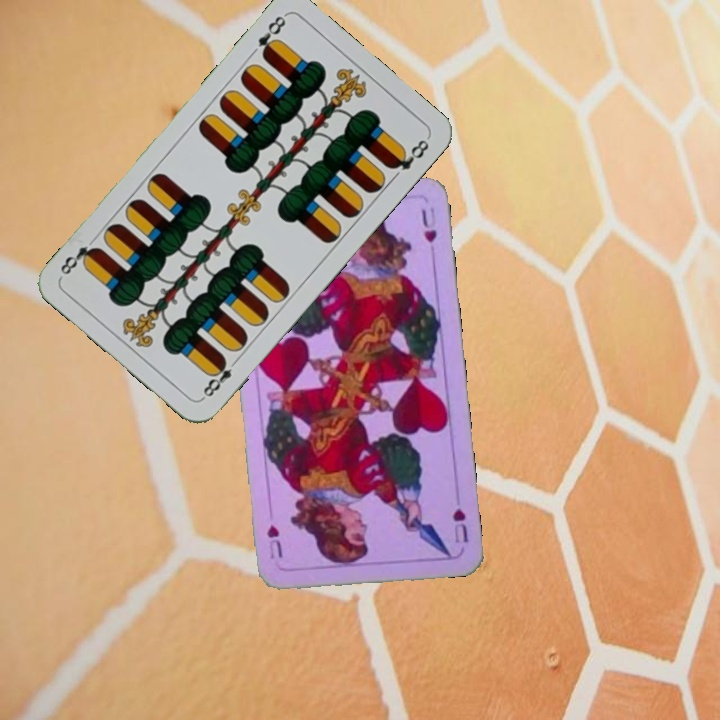E8: (198, 354, 242, 402), (253, 10, 289, 62)
HU: (448, 504, 471, 545)
